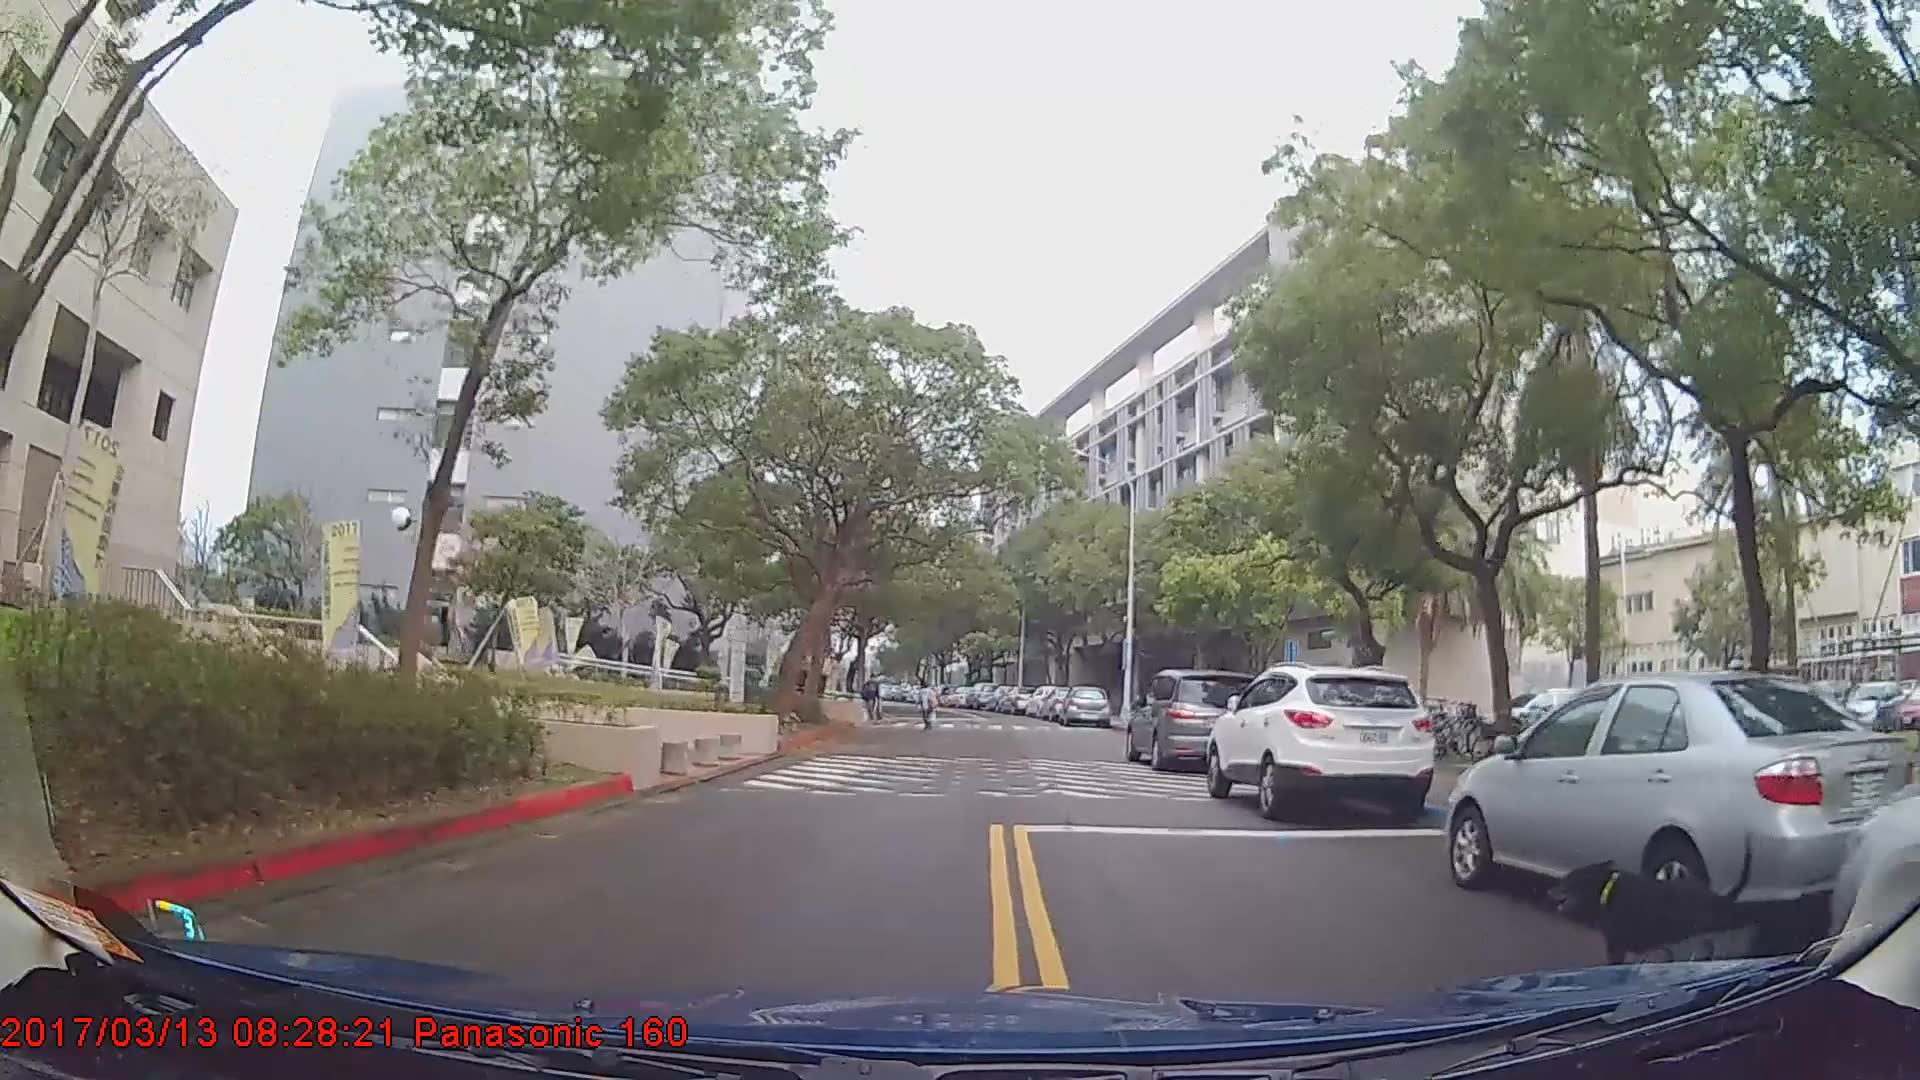pedestrian: (911, 680, 937, 732), (862, 674, 884, 723)
vehicle: (1442, 668, 1920, 930), (1204, 662, 1437, 824), (1124, 668, 1267, 768), (1060, 680, 1109, 726), (963, 679, 997, 709)
